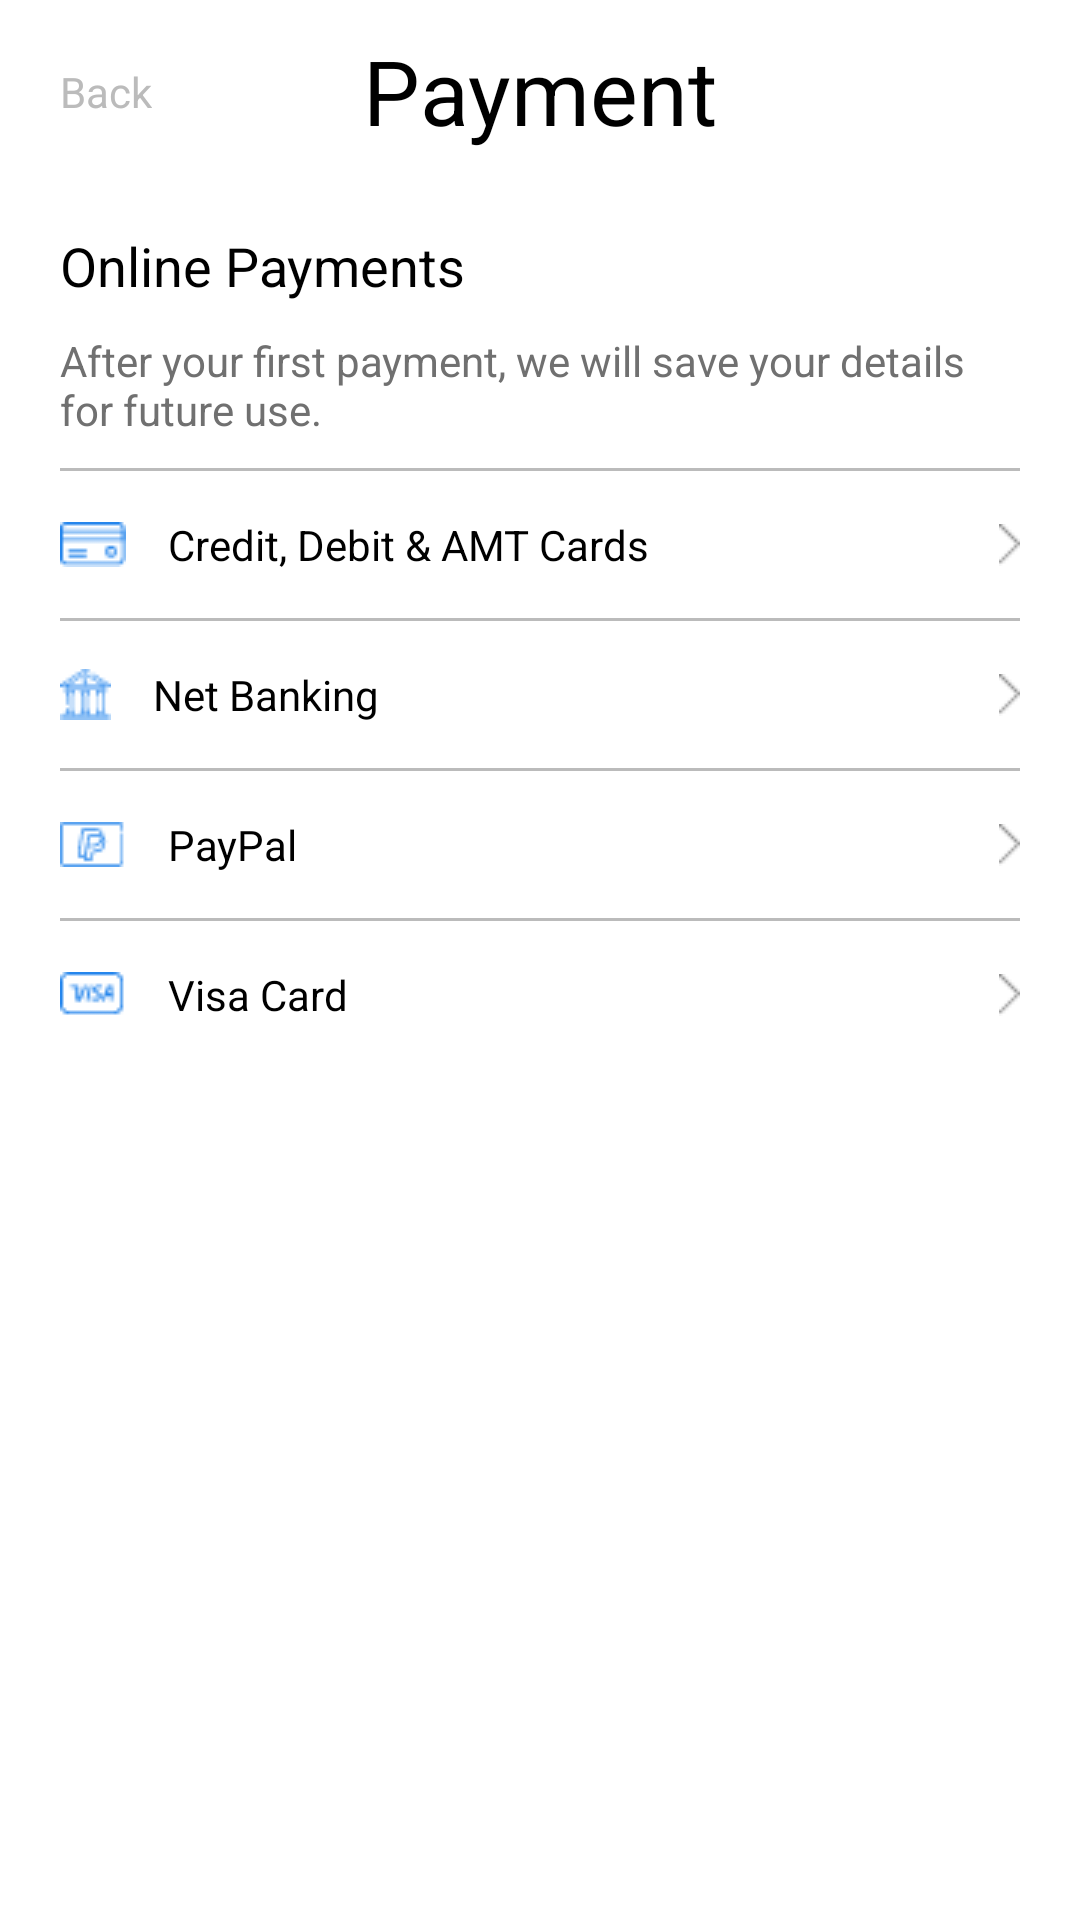

Named icons in this screenshot (1080w x 1920h) and their centers, (x=x, y=y):
credit card: (x=93, y=544)
